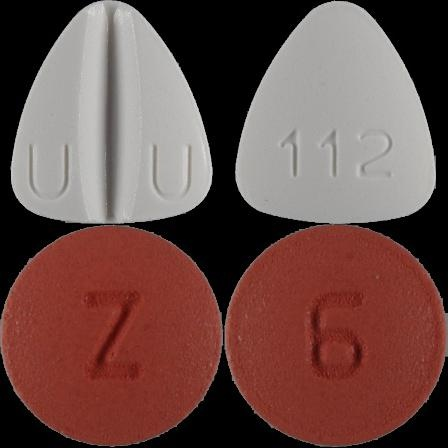64725-0112: (0, 0, 224, 224)
